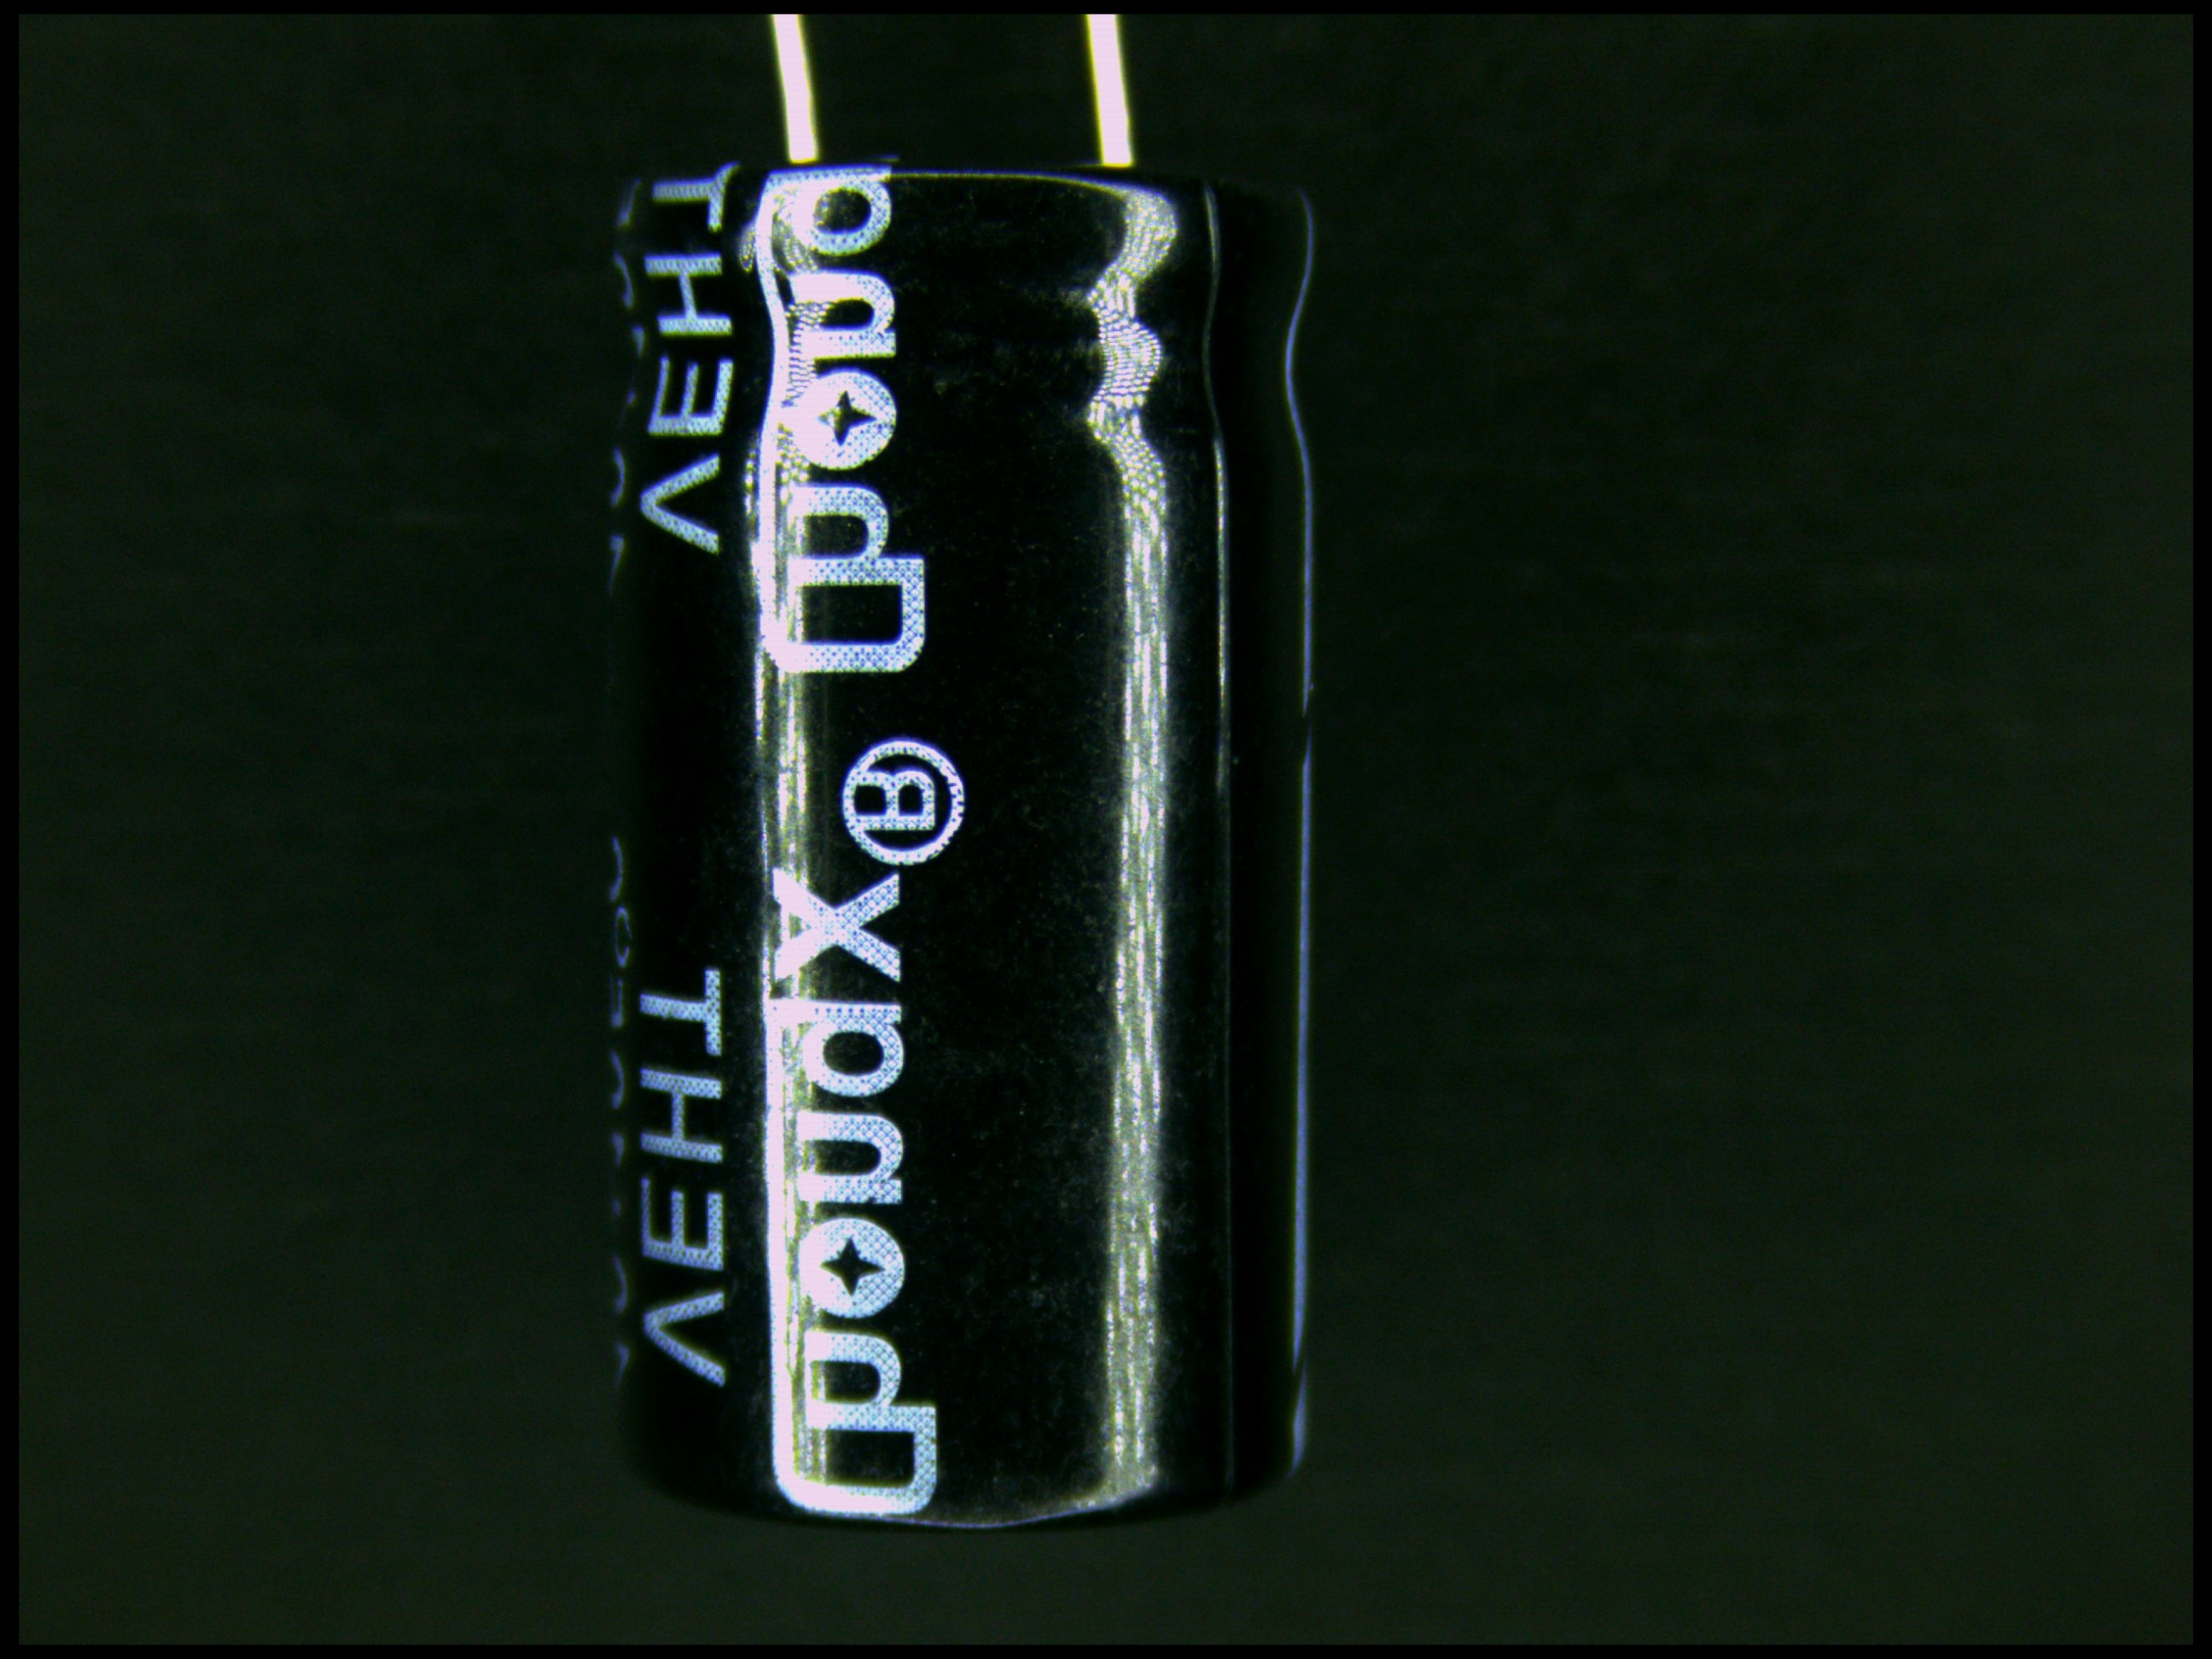c3: (582, 138, 1331, 1539)
